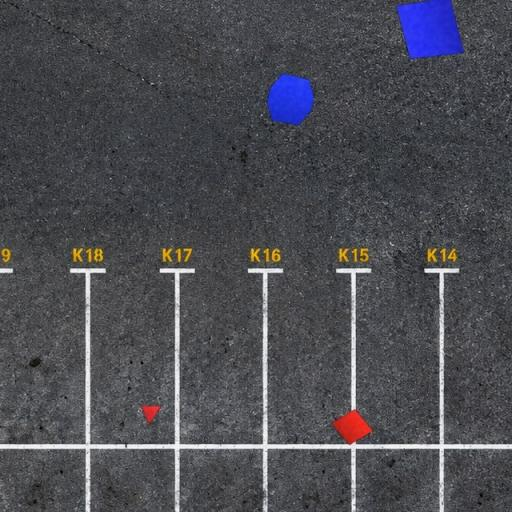BLUE_SQUARE: (395, 0, 465, 60)
RED_SQUARE: (330, 408, 374, 446)
